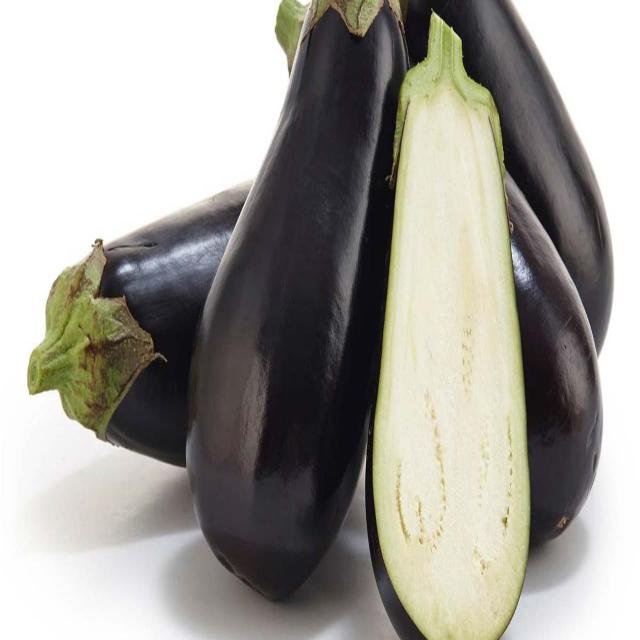eggplant: (183, 0, 367, 602), (366, 54, 530, 640), (21, 202, 193, 479)
